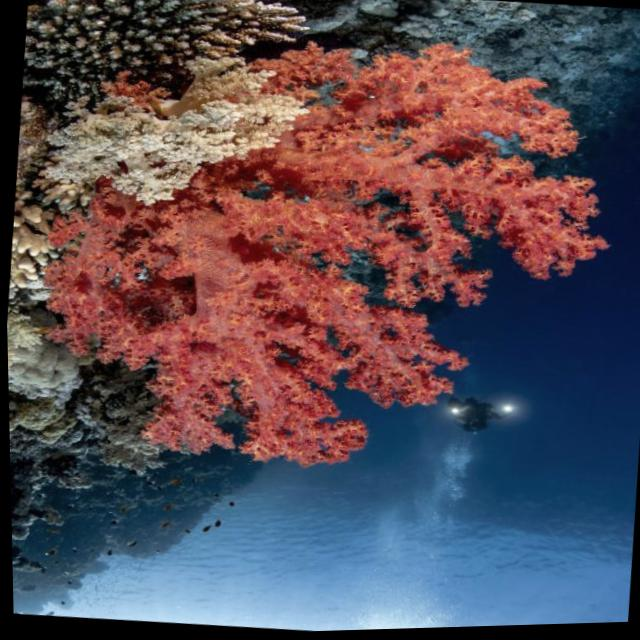Healthy Coral: (95, 17, 590, 478)
